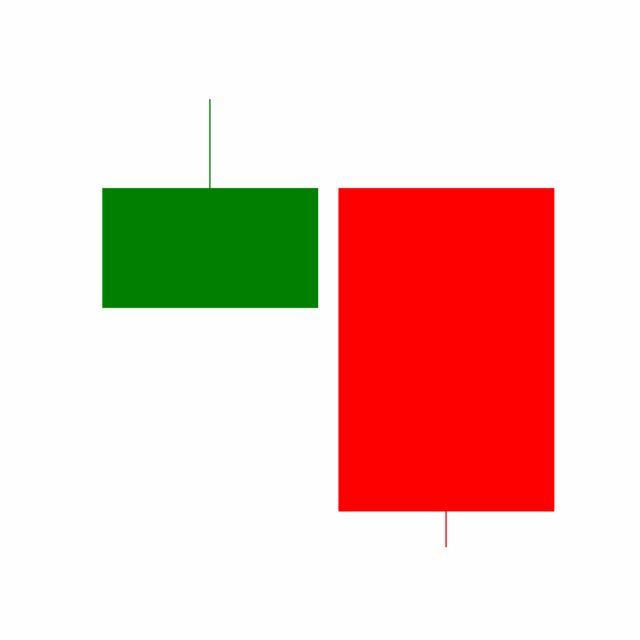Marubozu: (328, 185, 566, 553)
